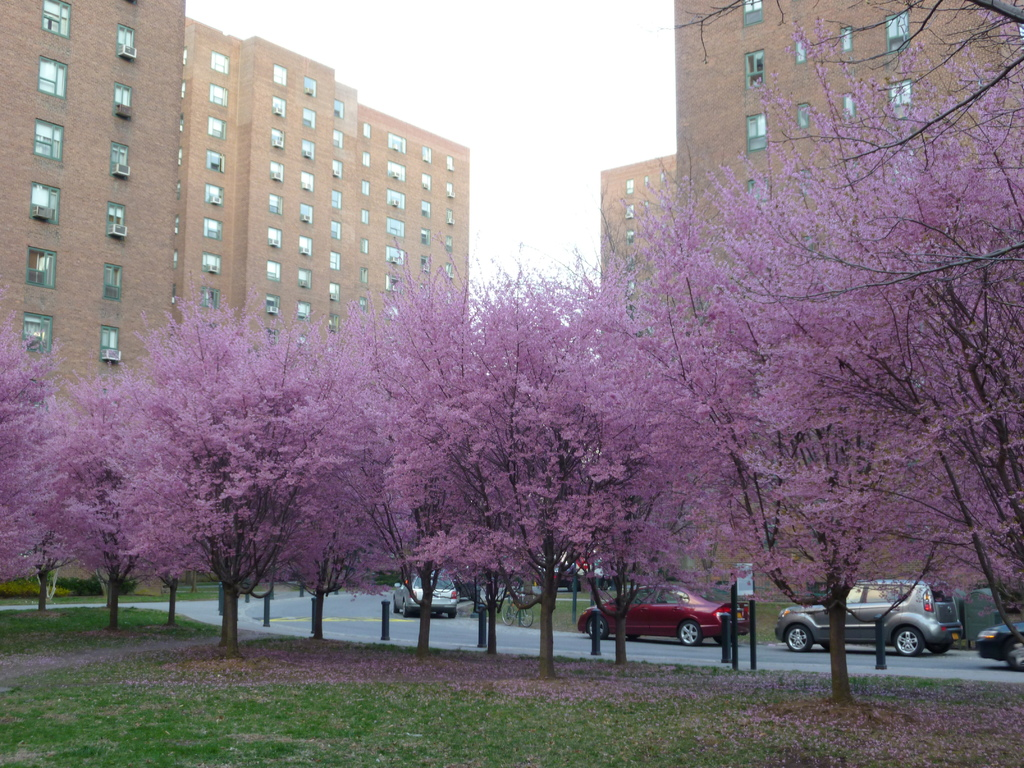car: (774, 579, 961, 656), (577, 585, 742, 646), (393, 570, 459, 619), (975, 620, 1024, 670)
